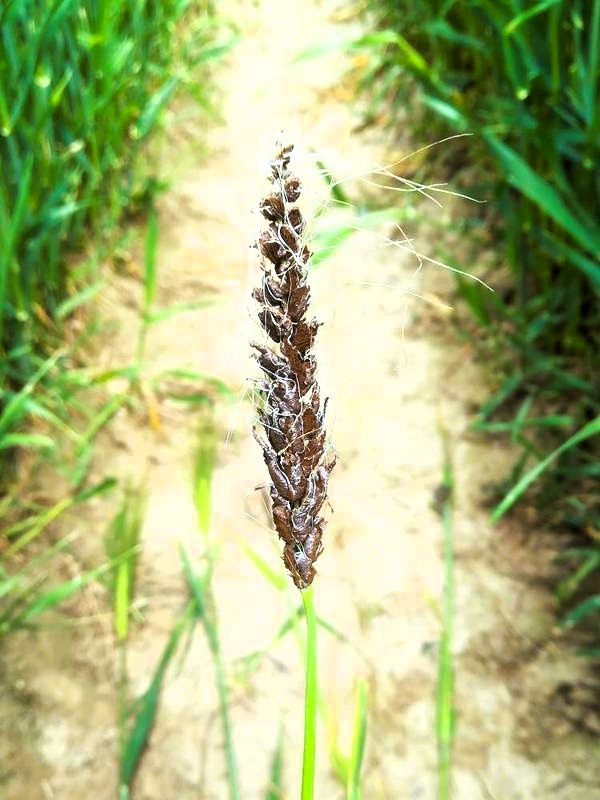Wheat Loose Smut: (244, 134, 338, 582)
